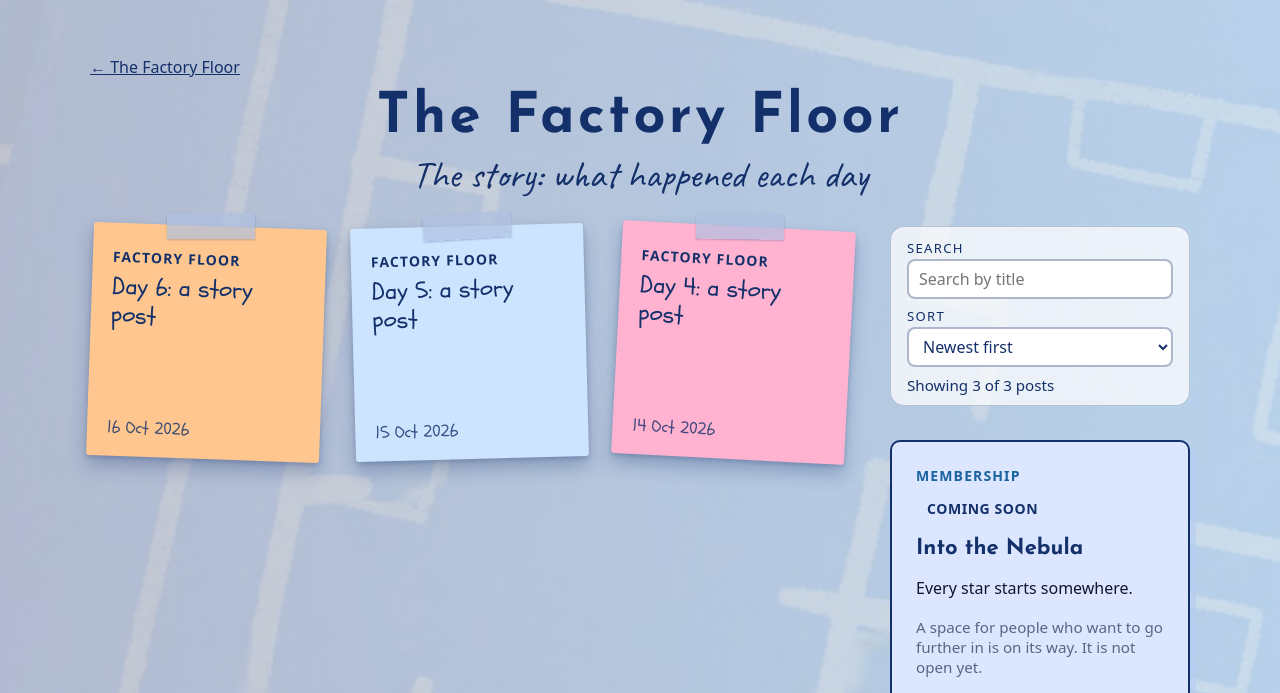
Test: section pages: searching and sorting › searches only the posts on the left, and the pinned post stays where it is
The image size is (1280, 693).
Expected: the form is shown, [890,226,1190,406]
Step 1. Type "Day 5" into the search field → (1040, 279), box [907,259,1173,299]
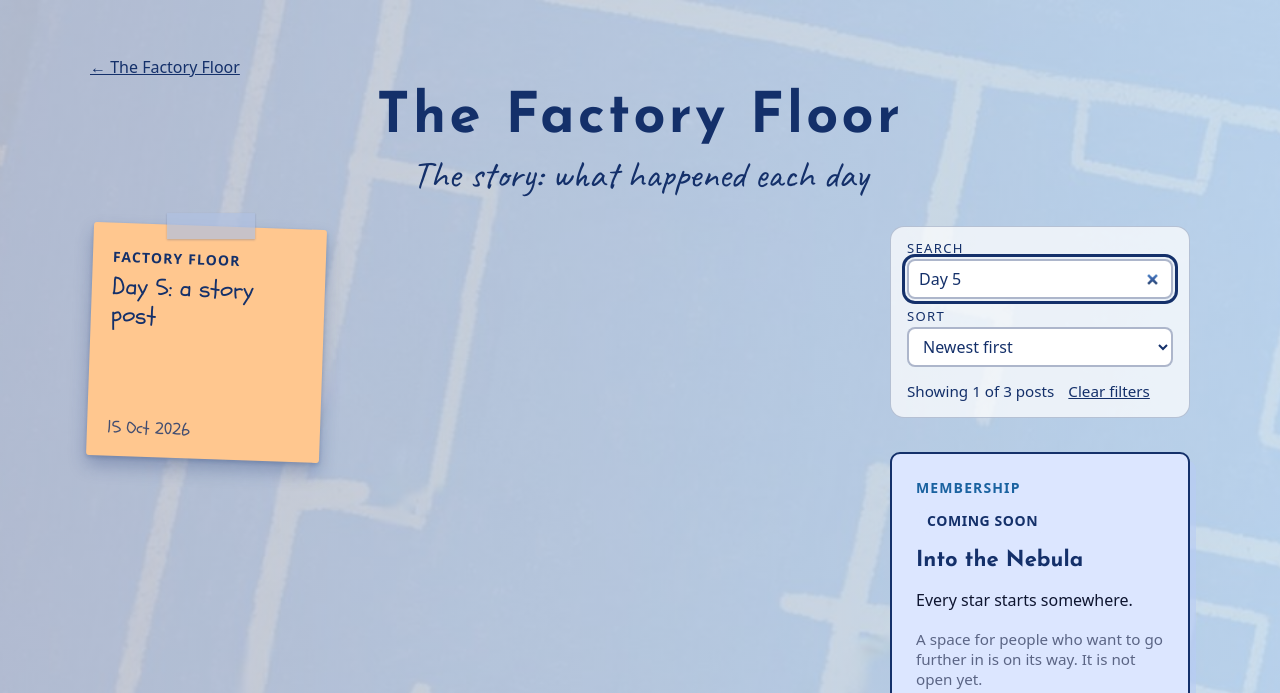
Expected: the message shows "Showing 1 of 3 posts", [907,375,1173,407]
